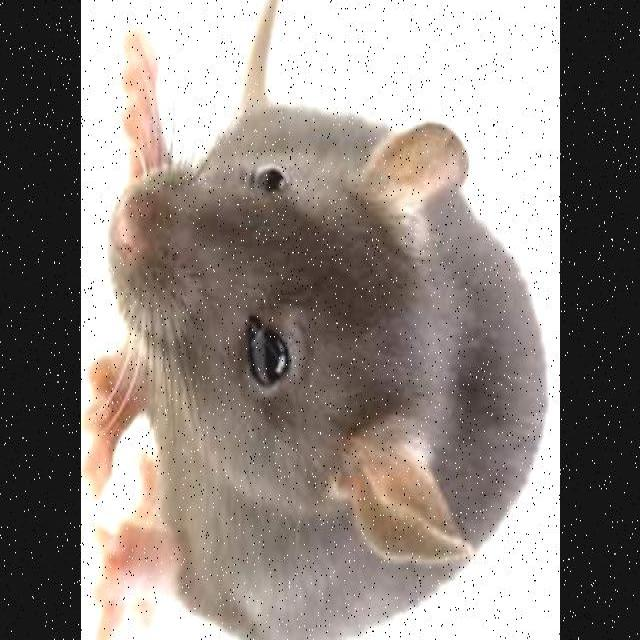rat: (85, 25, 560, 640)
